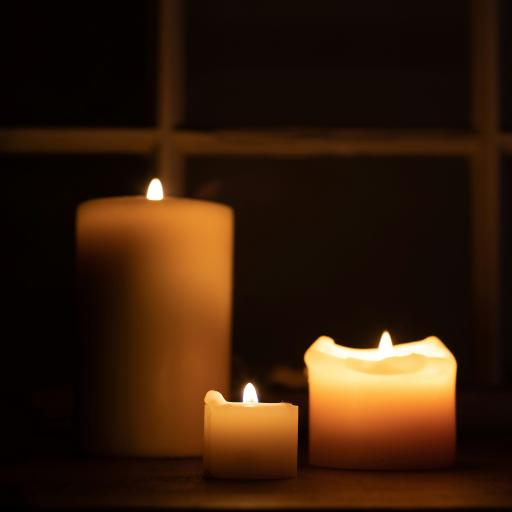candlelight: (77, 170, 237, 460), (280, 316, 470, 464), (185, 349, 317, 487)
